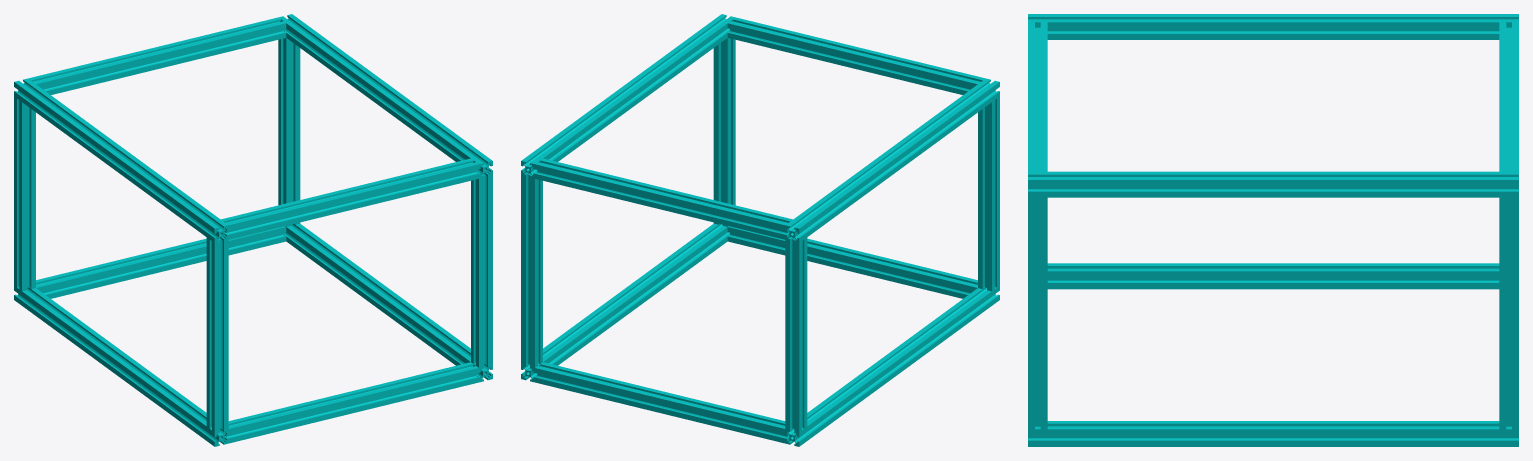
The model's file is assembly.glb.
3 views of the same model, side by side, from view 1: azimuth 30°, elevation 25°; view 2: azimuth 150°, elevation 25°; view 3: azimuth 270°, elevation 25° (orthographic). The views are drawn at different scales.
Visible parts, largest first — view 1: post-wn/extrusion-generic-2020-500/body, rail-x-top-n/extrusion-generic-2020-360/body, rail-x-top-s/extrusion-generic-2020-360/body, post-ws/extrusion-generic-2020-500/body, rail-x-bottom-n/extrusion-generic-2020-360/body, post-en/extrusion-generic-2020-500/body, post-es/extrusion-generic-2020-500/body, rail-x-bottom-s/extrusion-generic-2020-360/body, rail-y-top-w/extrusion-generic-2020-260/body, rail-y-top-e/extrusion-generic-2020-260/body, rail-y-bottom-w/extrusion-generic-2020-260/body, rail-y-bottom-e/extrusion-generic-2020-260/body; view 2: post-wn/extrusion-generic-2020-500/body, rail-x-bottom-n/extrusion-generic-2020-360/body, rail-x-bottom-s/extrusion-generic-2020-360/body, post-ws/extrusion-generic-2020-500/body, rail-x-top-n/extrusion-generic-2020-360/body, post-en/extrusion-generic-2020-500/body, post-es/extrusion-generic-2020-500/body, rail-x-top-s/extrusion-generic-2020-360/body, rail-y-bottom-w/extrusion-generic-2020-260/body, rail-y-bottom-e/extrusion-generic-2020-260/body, rail-y-top-w/extrusion-generic-2020-260/body, rail-y-top-e/extrusion-generic-2020-260/body; view 3: post-en/extrusion-generic-2020-500/body, post-es/extrusion-generic-2020-500/body, post-ws/extrusion-generic-2020-500/body, post-wn/extrusion-generic-2020-500/body, rail-y-bottom-e/extrusion-generic-2020-260/body, rail-y-top-e/extrusion-generic-2020-260/body, rail-x-bottom-n/extrusion-generic-2020-360/body, rail-x-top-n/extrusion-generic-2020-360/body.
Boxes of the visible parts, x1,y1,x2,y2 form: post-wn/extrusion-generic-2020-500/body: (14,78,228,242); rail-x-top-n/extrusion-generic-2020-360/body: (221,158,478,239); rail-x-top-s/extrusion-generic-2020-360/body: (224,362,478,443); post-ws/extrusion-generic-2020-500/body: (14,285,228,446); rail-x-bottom-n/extrusion-generic-2020-360/body: (28,17,286,94); post-en/extrusion-generic-2020-500/body: (278,14,492,178); post-es/extrusion-generic-2020-500/body: (284,223,492,382); rail-x-bottom-s/extrusion-generic-2020-360/body: (36,226,286,298); rail-y-top-w/extrusion-generic-2020-260/body: (206,237,228,432); rail-y-top-e/extrusion-generic-2020-260/body: (471,173,492,367); rail-y-bottom-w/extrusion-generic-2020-260/body: (14,96,35,291); rail-y-bottom-e/extrusion-generic-2020-260/body: (278,38,300,226); post-wn/extrusion-generic-2020-500/body: (785,78,999,242); rail-x-bottom-n/extrusion-generic-2020-360/body: (535,158,792,239); rail-x-bottom-s/extrusion-generic-2020-360/body: (535,362,789,443); post-ws/extrusion-generic-2020-500/body: (785,285,999,446); rail-x-top-n/extrusion-generic-2020-360/body: (727,17,985,94); post-en/extrusion-generic-2020-500/body: (521,14,735,178); post-es/extrusion-generic-2020-500/body: (521,223,729,382); rail-x-top-s/extrusion-generic-2020-360/body: (727,226,977,298); rail-y-bottom-w/extrusion-generic-2020-260/body: (785,237,807,432); rail-y-bottom-e/extrusion-generic-2020-260/body: (521,173,542,367); rail-y-top-w/extrusion-generic-2020-260/body: (978,96,999,291); rail-y-top-e/extrusion-generic-2020-260/body: (713,38,735,226); post-en/extrusion-generic-2020-500/body: (1028,171,1518,197); post-es/extrusion-generic-2020-500/body: (1028,421,1518,446); post-ws/extrusion-generic-2020-500/body: (1047,263,1499,289); post-wn/extrusion-generic-2020-500/body: (1028,14,1518,39); rail-y-bottom-e/extrusion-generic-2020-260/body: (1499,197,1518,429); rail-y-top-e/extrusion-generic-2020-260/body: (1028,197,1047,429); rail-x-bottom-n/extrusion-generic-2020-360/body: (1499,22,1518,171); rail-x-top-n/extrusion-generic-2020-360/body: (1028,22,1047,171).
Size of the model in its own units: 0.4 by 0.3 by 0.5.
